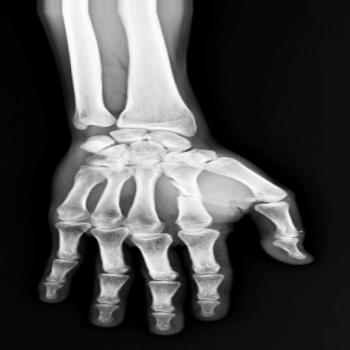Fracture: (172, 188, 209, 205)
